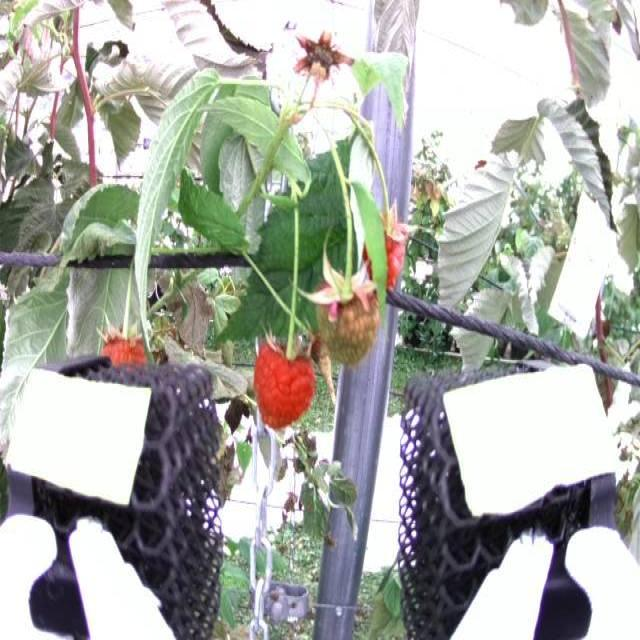Riped berries: (251, 335, 318, 427), (361, 211, 415, 290), (99, 316, 148, 362)
